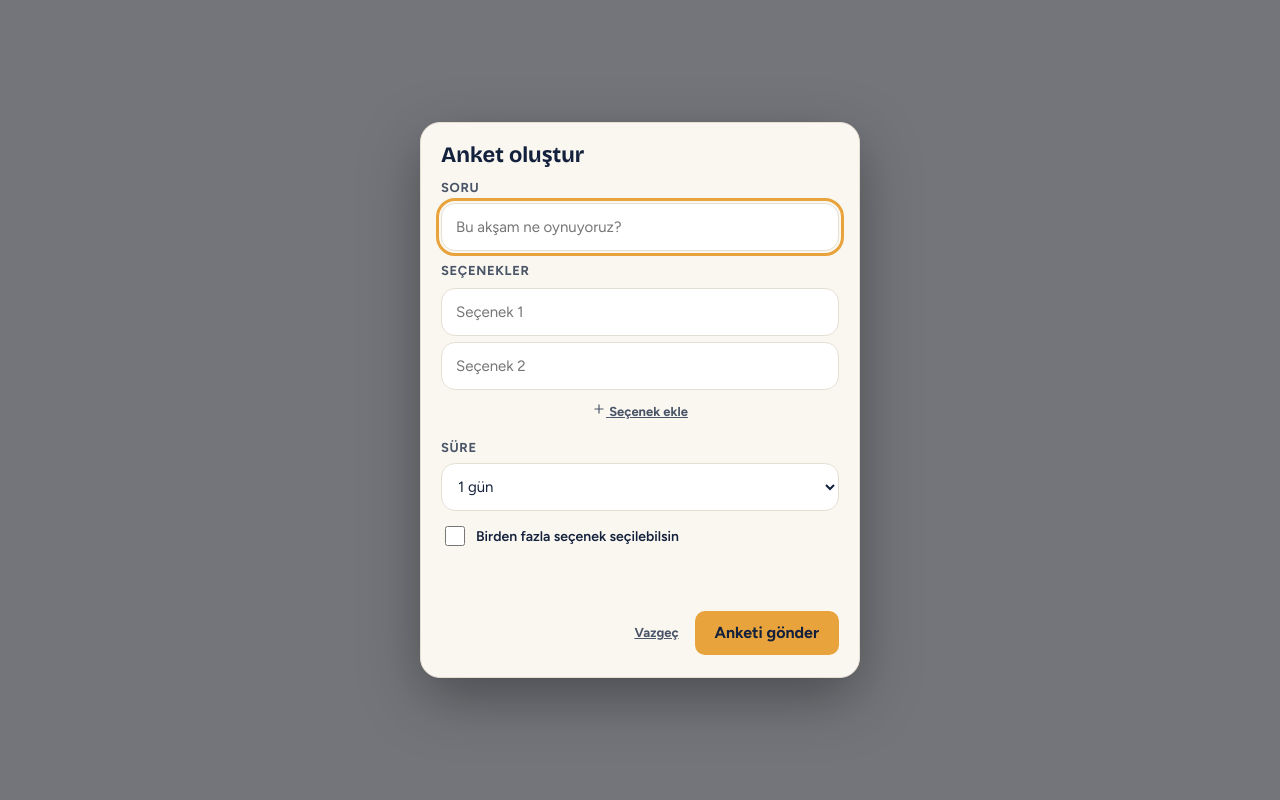
Test: AnketOlustur › eksik formda hata gösterir ve göndermez
Click the button "Anketi gönder" at (767, 633), box left=694, top=611, right=839, bottom=655
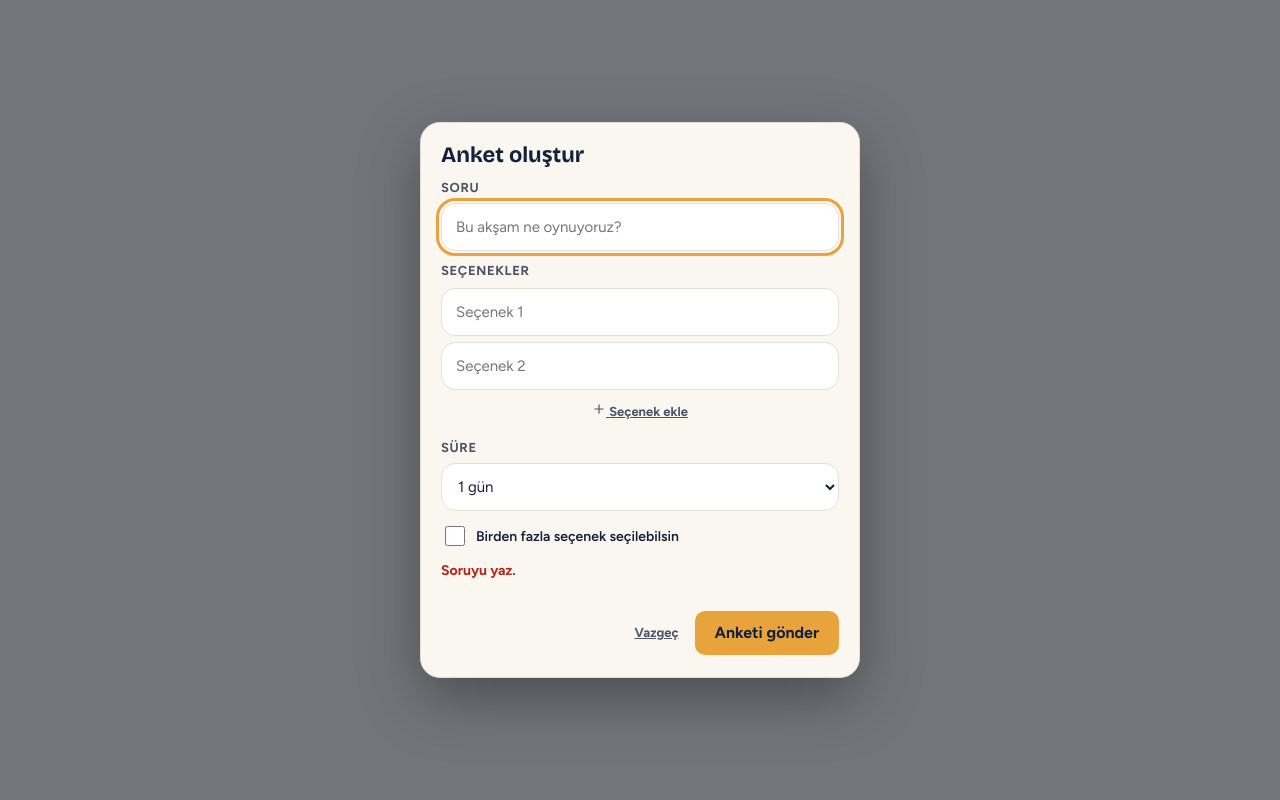
Check: the message shows "Soruyu yaz", box left=441, top=562, right=516, bottom=579
